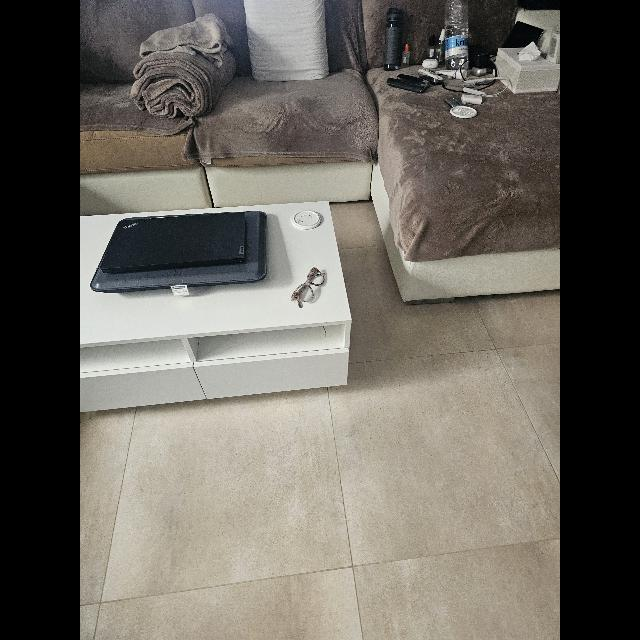glasses: (290, 268, 326, 308)
